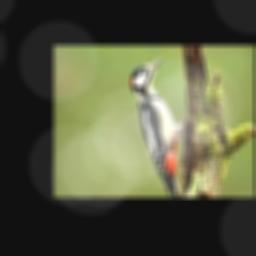Woodpecker: (130, 56, 196, 197)
